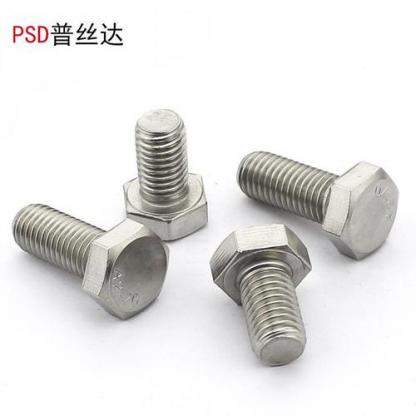FOD: (8, 199, 169, 321), (236, 146, 400, 259), (208, 223, 315, 368), (120, 107, 209, 245)
